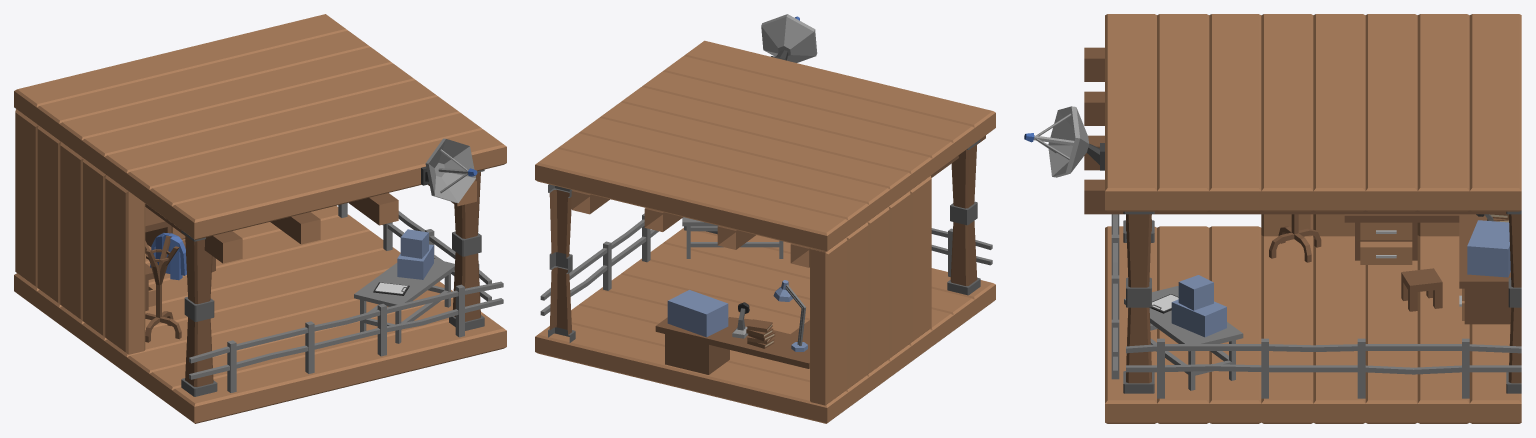
File: RadioStation_Lvl_01_Corner_Left.fbx
3 views of the same model, side by side, from view 1: azimuth 30°, elevation 25°; view 2: azimuth 150°, elevation 25°; view 3: azimuth 270°, elevation 25° (orthographic). The views are drawn at different scales.
Parts seen in each view (by area): view 1: RadioStation_Lvl_01_Corner_Left; view 2: RadioStation_Lvl_01_Corner_Left; view 3: RadioStation_Lvl_01_Corner_Left.
Part boxes in pixels (box(x1,y1,x2,y2)): RadioStation_Lvl_01_Corner_Left: box(14, 14, 506, 423); RadioStation_Lvl_01_Corner_Left: box(535, 14, 995, 423); RadioStation_Lvl_01_Corner_Left: box(1024, 14, 1521, 423).
Bounding box in the file's own units: 8 × 5.85 × 9.55.
